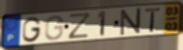1: (96, 9, 107, 38)
G: (22, 16, 43, 44), (44, 15, 65, 42)
N: (120, 7, 142, 37)
T: (144, 7, 163, 33)
Z: (67, 11, 93, 41)
